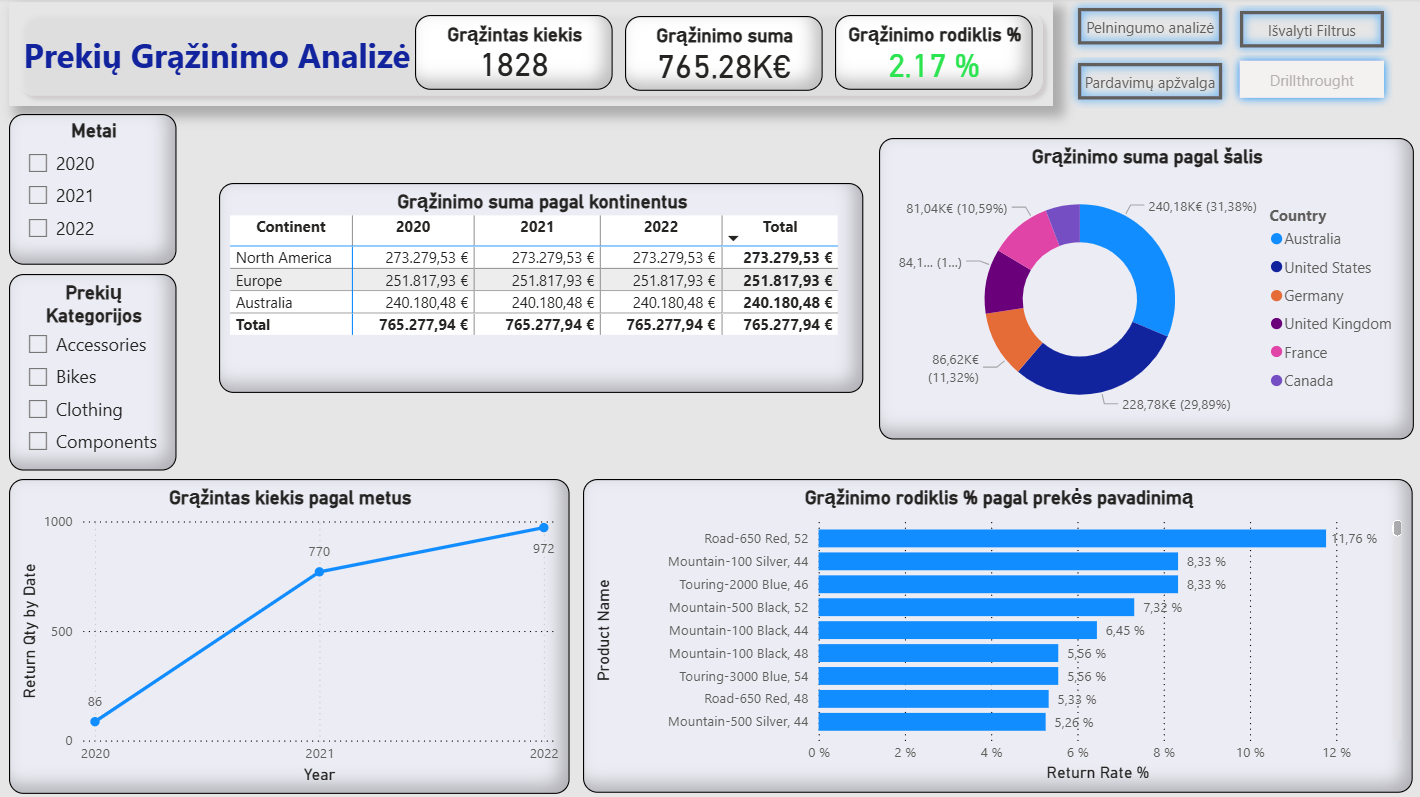

Layout of this report page (visuals, bound fields, positions):
{"tool":"powerbi","page":{"name":"Grąžinimų analizė","canvas":[1280,720],"ordinal":2},"visuals":[{"type":"actionButton","box":[15.1,3.5,935,92.9],"z":0},{"type":"card","title":"Grąžintas kiekis","fields":{"Values":["Measure.Return Quantity"]},"box":[379,15.1,177,67],"z":1000},{"type":"card","title":"Grąžinimo suma","fields":{"Values":["Measure.Return Amount"]},"box":[566.8,16.3,177,67.4],"z":2000},{"type":"lineChart","title":"Grąžintas kiekis pagal metus","fields":{"Y":["Measure.Return Qty by Date"],"Category":["Date.Year","Date.Quarter"]},"box":[15.1,430.4,501.9,282.2],"z":3000},{"type":"barChart","title":"Grąžinimo rodiklis % pagal prekės pavadinimą","fields":{"Category":["products.Product Name"],"Y":["Measure.Return Rate %"]},"box":[529.7,430.9,743.4,281.1],"z":4000},{"type":"slicer","title":"Metai","fields":{"Values":["Date.Year"]},"box":[15.1,103.8,150.2,135.1],"z":5000},{"type":"donutChart","title":"Grąžinimo suma pagal šalis","fields":{"Category":["territory.Country"],"Y":["Measure.Return Amount by Date"]},"box":[794.2,125,478.7,270.1],"z":6000},{"type":"card","title":"Grąžinimo rodiklis %","fields":{"Values":["Measure.Return Rate %"]},"box":[755,15.1,177,67.4],"z":7000},{"type":"pivotTable","title":"Grąžinimo suma pagal kontinentus","fields":{"Rows":["territory.Continent"],"Values":["Measure.Return Amount"],"Columns":["Date.Year"]},"box":[203.3,166.1,577.3,188.2],"z":8000},{"type":"slicer","title":"Prekių Kategorijos","fields":{"Values":["products.Category Name"]},"box":[15.1,246.9,150.2,176.4],"z":9000},{"type":"actionButton","box":[1109.3,3.5,145,48.8],"z":10000},{"type":"actionButton","box":[964.1,49.9,145.2,48.8],"z":11000},{"type":"actionButton","box":[964.1,1.2,145.2,48.8],"z":12000},{"type":"actionButton","box":[1109.3,48.8,145,48.8],"z":13000}]}

Visuals, with their boxes in screenshot pixels (x1, y1, x2, y2), scaled from the page's 1280x720 canvas onto the 1420x797 screenshot:
actionButton: select_region(17, 4, 1054, 107)
"Grąžintas kiekis" card: select_region(420, 17, 617, 91)
"Grąžinimo suma" card: select_region(629, 18, 825, 93)
"Grąžintas kiekis pagal metus" lineChart: select_region(17, 476, 574, 789)
"Grąžinimo rodiklis % pagal prekės pavadinimą" barChart: select_region(588, 477, 1412, 788)
"Metai" slicer: select_region(17, 115, 183, 264)
"Grąžinimo suma pagal šalis" donutChart: select_region(881, 138, 1412, 437)
"Grąžinimo rodiklis %" card: select_region(838, 17, 1034, 91)
"Grąžinimo suma pagal kontinentus" pivotTable: select_region(226, 184, 866, 392)
"Prekių Kategorijos" slicer: select_region(17, 273, 183, 469)
actionButton: select_region(1231, 4, 1391, 58)
actionButton: select_region(1070, 55, 1231, 109)
actionButton: select_region(1070, 1, 1231, 55)
actionButton: select_region(1231, 54, 1391, 108)
